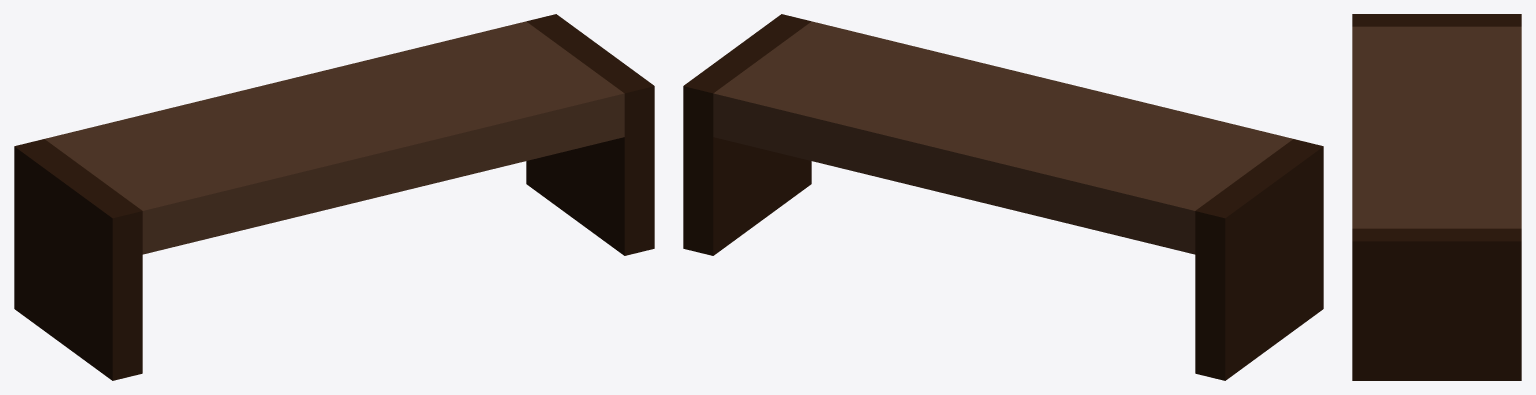
The model's file is Bench.fbx.
3 views of the same model, side by side, from view 1: azimuth 30°, elevation 25°; view 2: azimuth 150°, elevation 25°; view 3: azimuth 270°, elevation 25° (orthographic). The views are drawn at different scales.
Parts seen in each view (by area): view 1: Cube; view 2: Cube; view 3: Cube.
Boxes of the visible parts, x1,y1,x2,y2 form: Cube: (14,14,654,380); Cube: (683,14,1323,380); Cube: (1352,14,1521,380).
Bounding box in the file's own units: 636 × 182 × 200.
